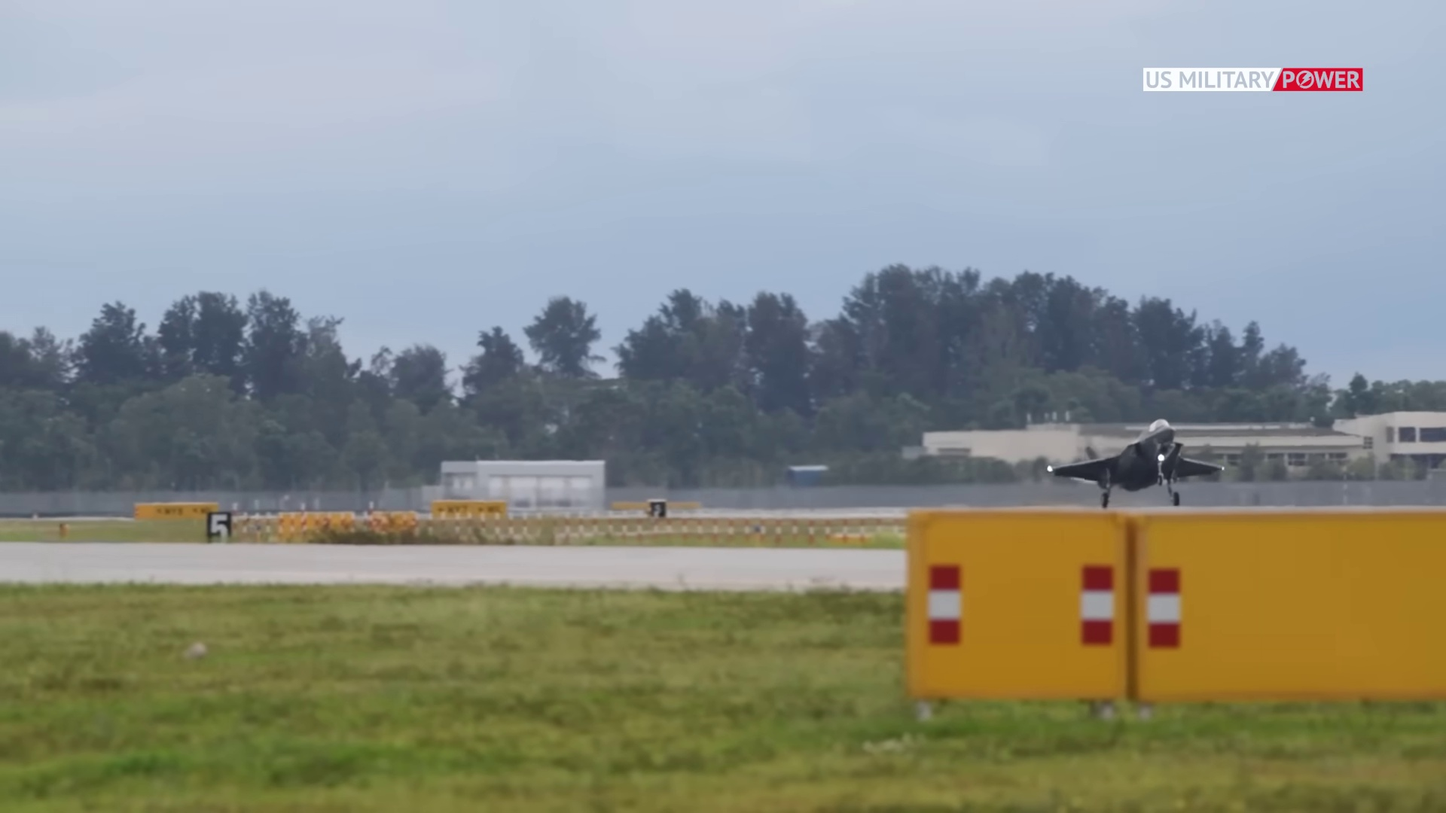F35: (1043, 416, 1229, 506)
